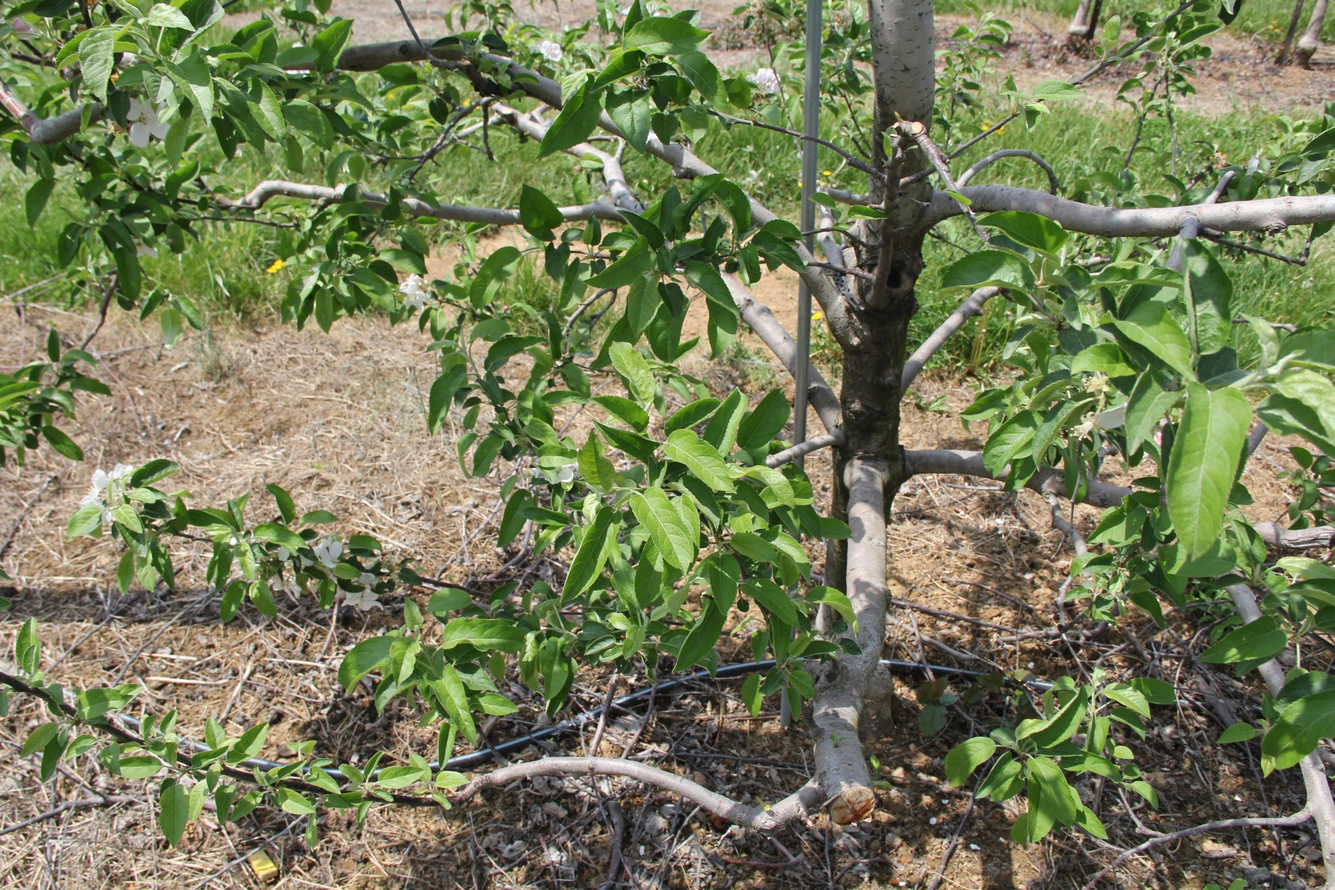flower: (78, 464, 134, 526), (127, 97, 172, 148), (335, 573, 385, 611), (400, 274, 434, 312), (312, 536, 344, 569), (746, 68, 781, 94), (529, 40, 563, 63), (133, 238, 159, 259), (276, 547, 290, 562), (298, 554, 314, 566)
